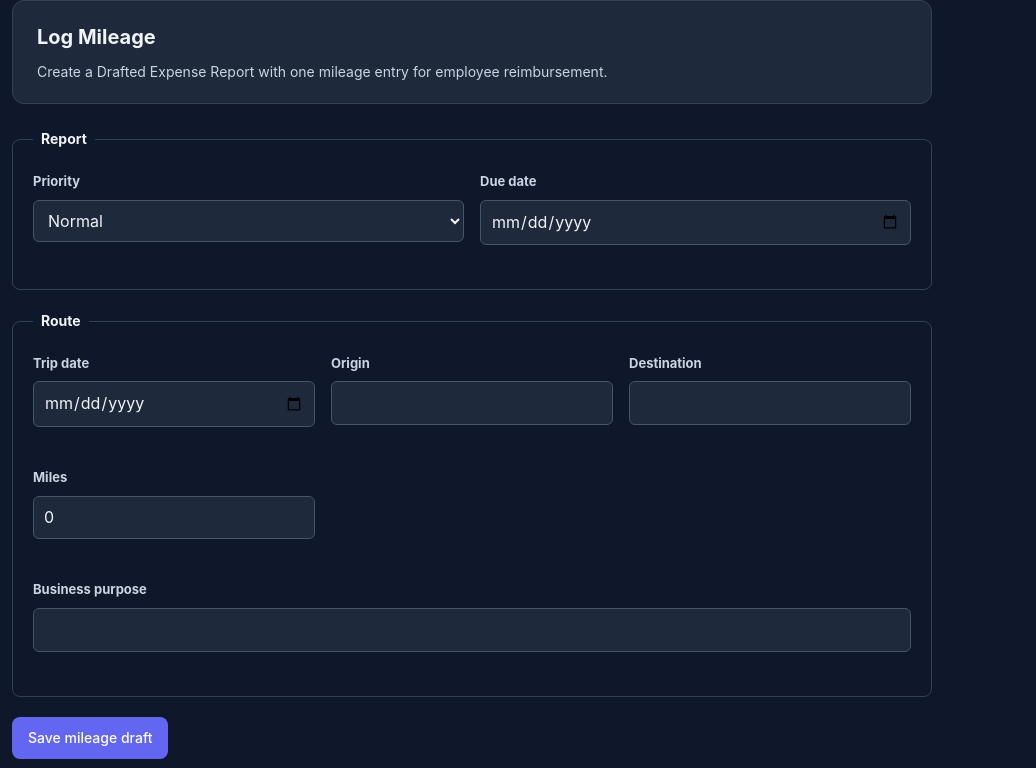
it: Expense write forms › renders API Problem JSON failures without reporting success
This screenshot has width=1036, height=768.
Type "2026-08-01" into the date field labelled "Trip date" at [174, 404], box [33,381,315,427]
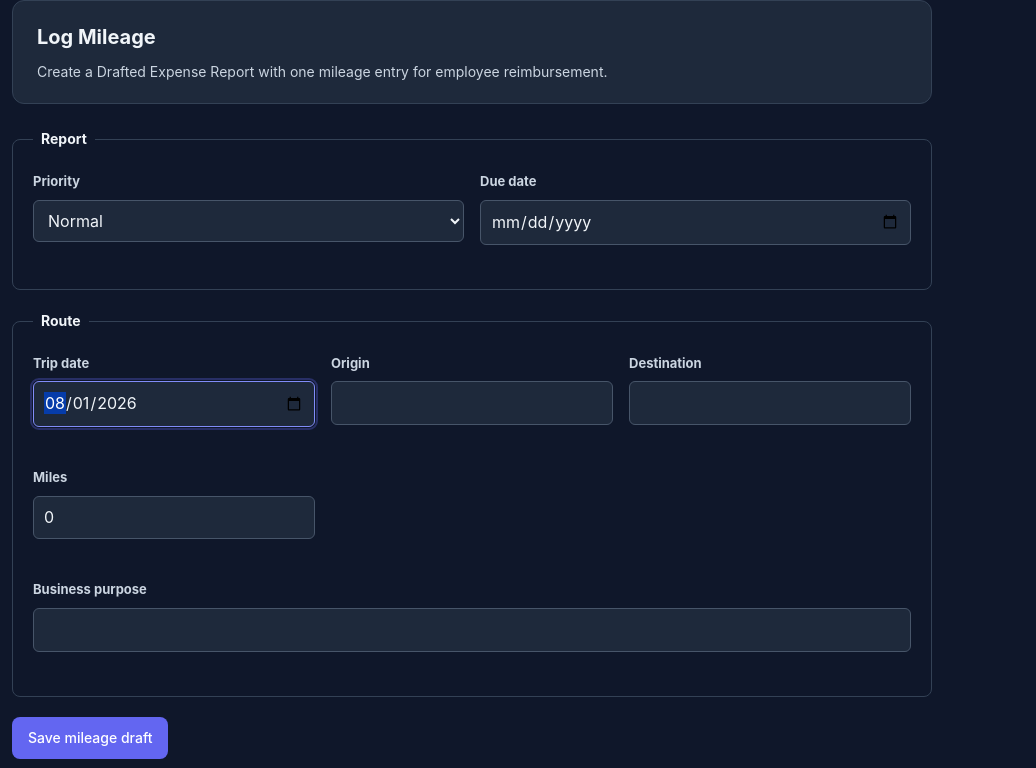
Type "Synthetic Origin Office" into the field labelled "Origin" at [472, 403], box [331,381,613,425]
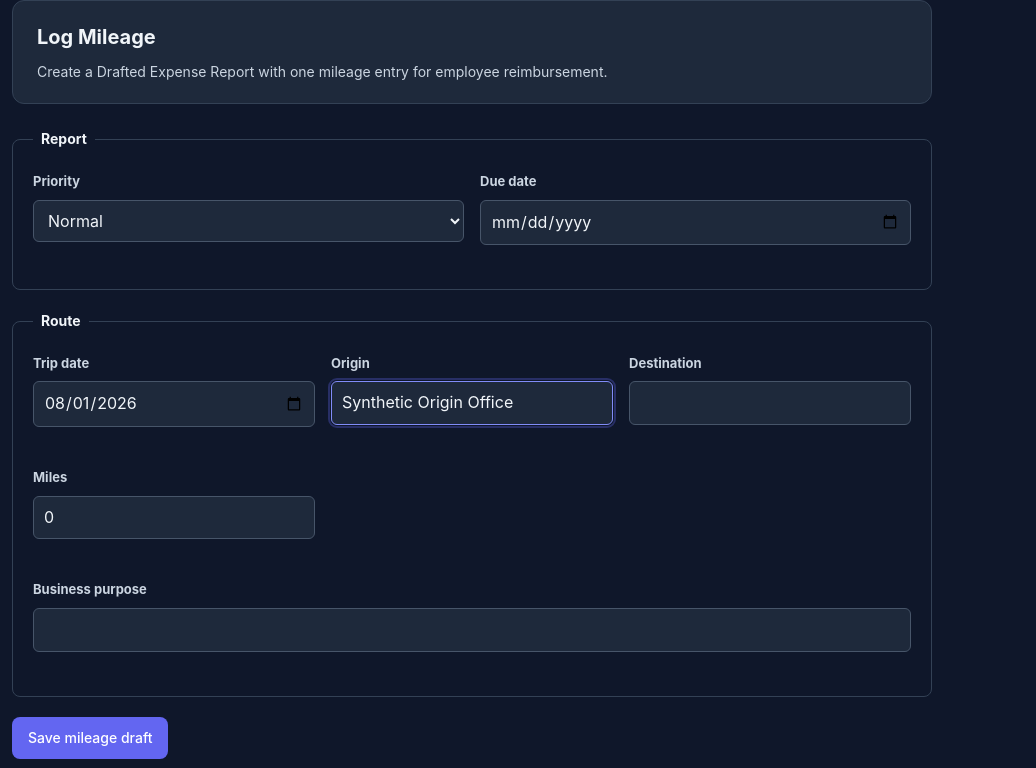
Type "Synthetic Destination Office" into the field labelled "Destination" at [770, 403], box [629,381,911,425]
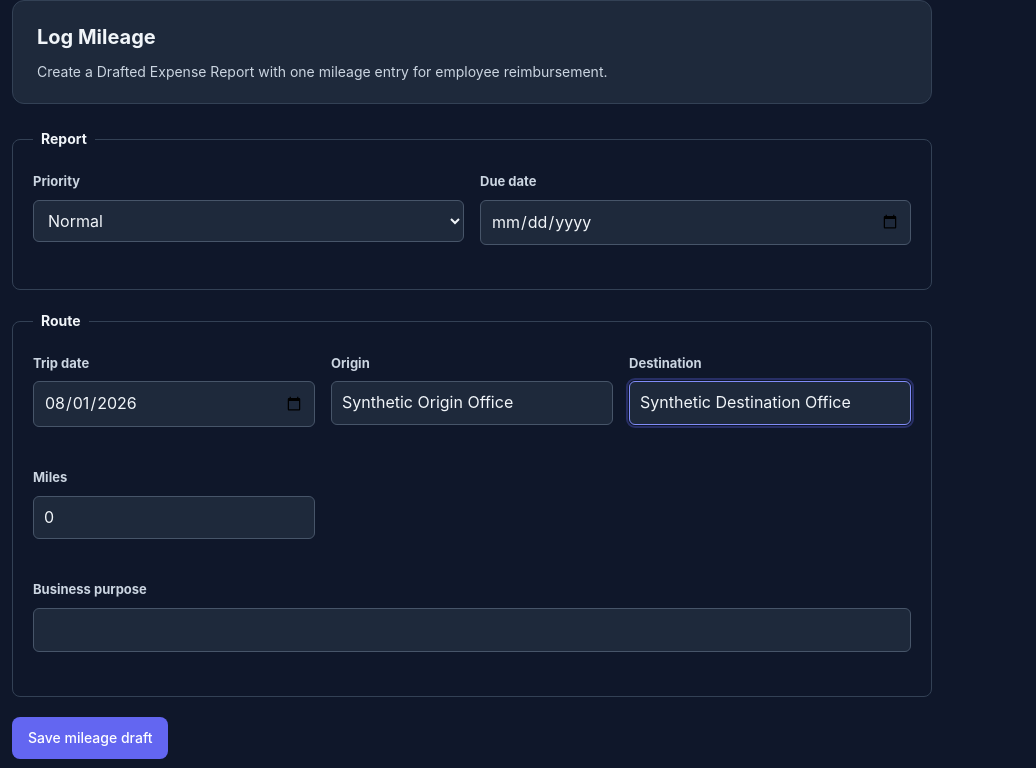
Replace the text in the number field labelled "Miles" with "18.25" at [174, 518], box [33,496,315,539]
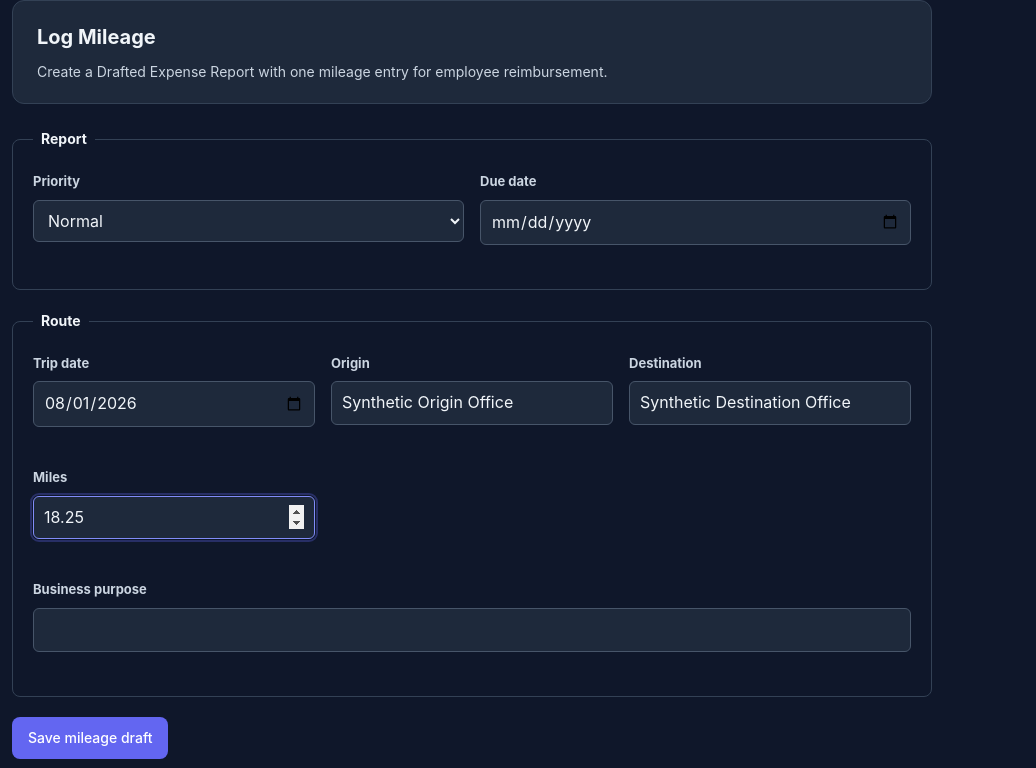
Type "Synthetic client support visit." into the field labelled "Business purpose" at [472, 630], box [33,608,911,652]
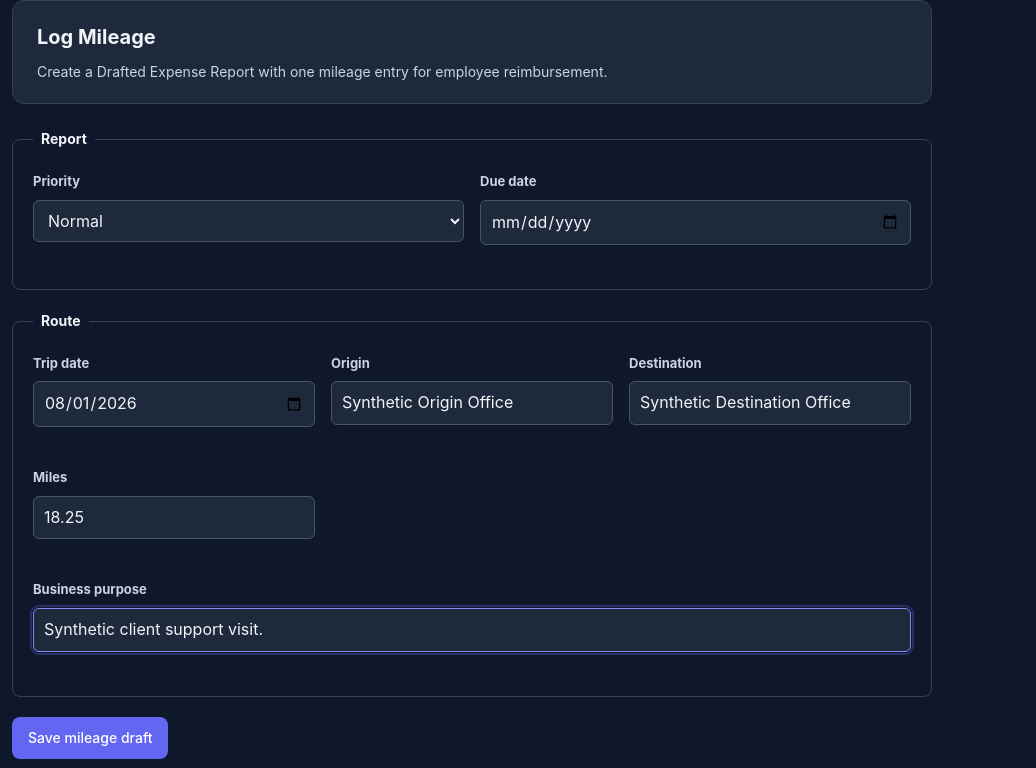
Click the button "Save mileage draft" at [90, 738], box [12,717,168,759]
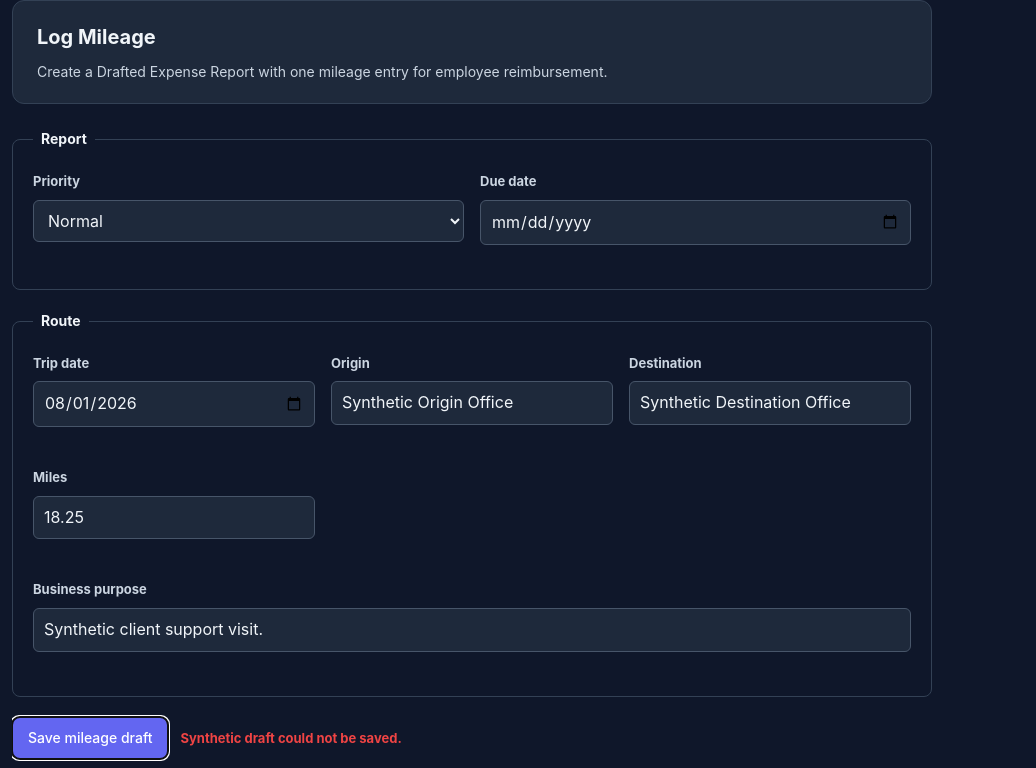
Expected: the message reads "Synthetic draft could not be saved.", [180,730,402,746]
